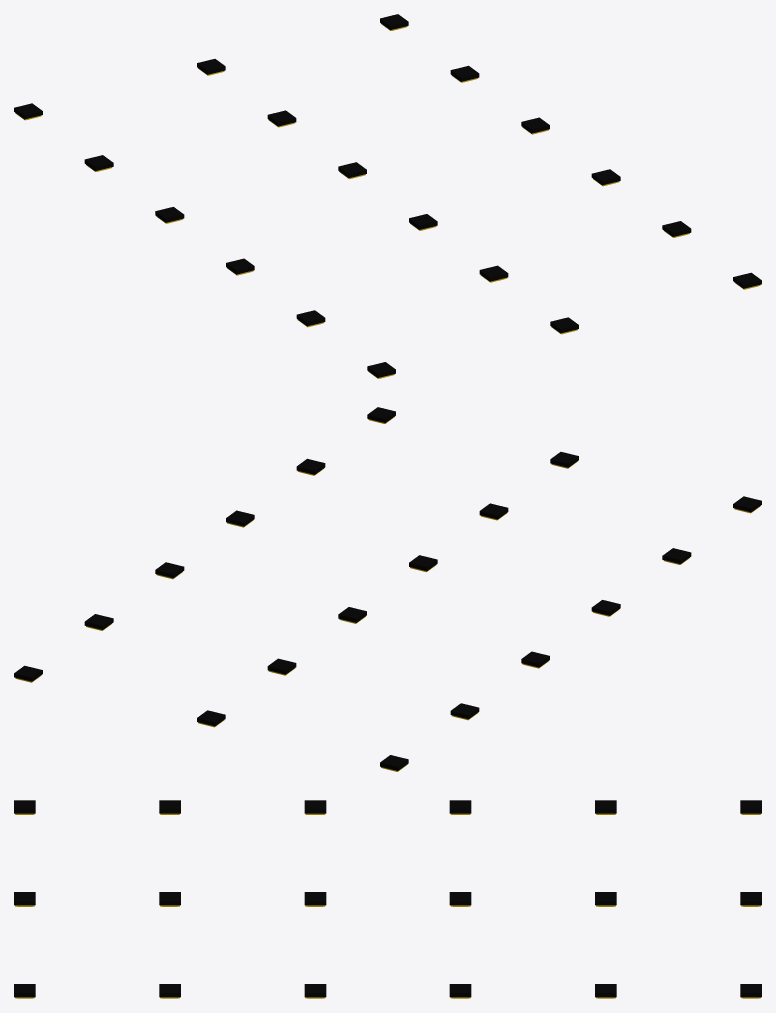
Rendered from Lights.fbx.
3 views of the same model, one above another, from view 1: azimuth 30°, elevation 25°; view 2: azimuth 150°, elevation 25°; view 3: azimuth 270°, elevation 25° (orthographic). The views are drawn at different scales.
Parts seen in each view (by area): view 1: Lights; view 2: Lights; view 3: Lights.
Boxes of the visible parts, box(x1,y1,x2,y2) form: Lights: box(14, 14, 761, 378); Lights: box(14, 407, 761, 771); Lights: box(14, 800, 761, 998).
Bounding box in the file's own units: 4200 × 69.5 × 6890.
